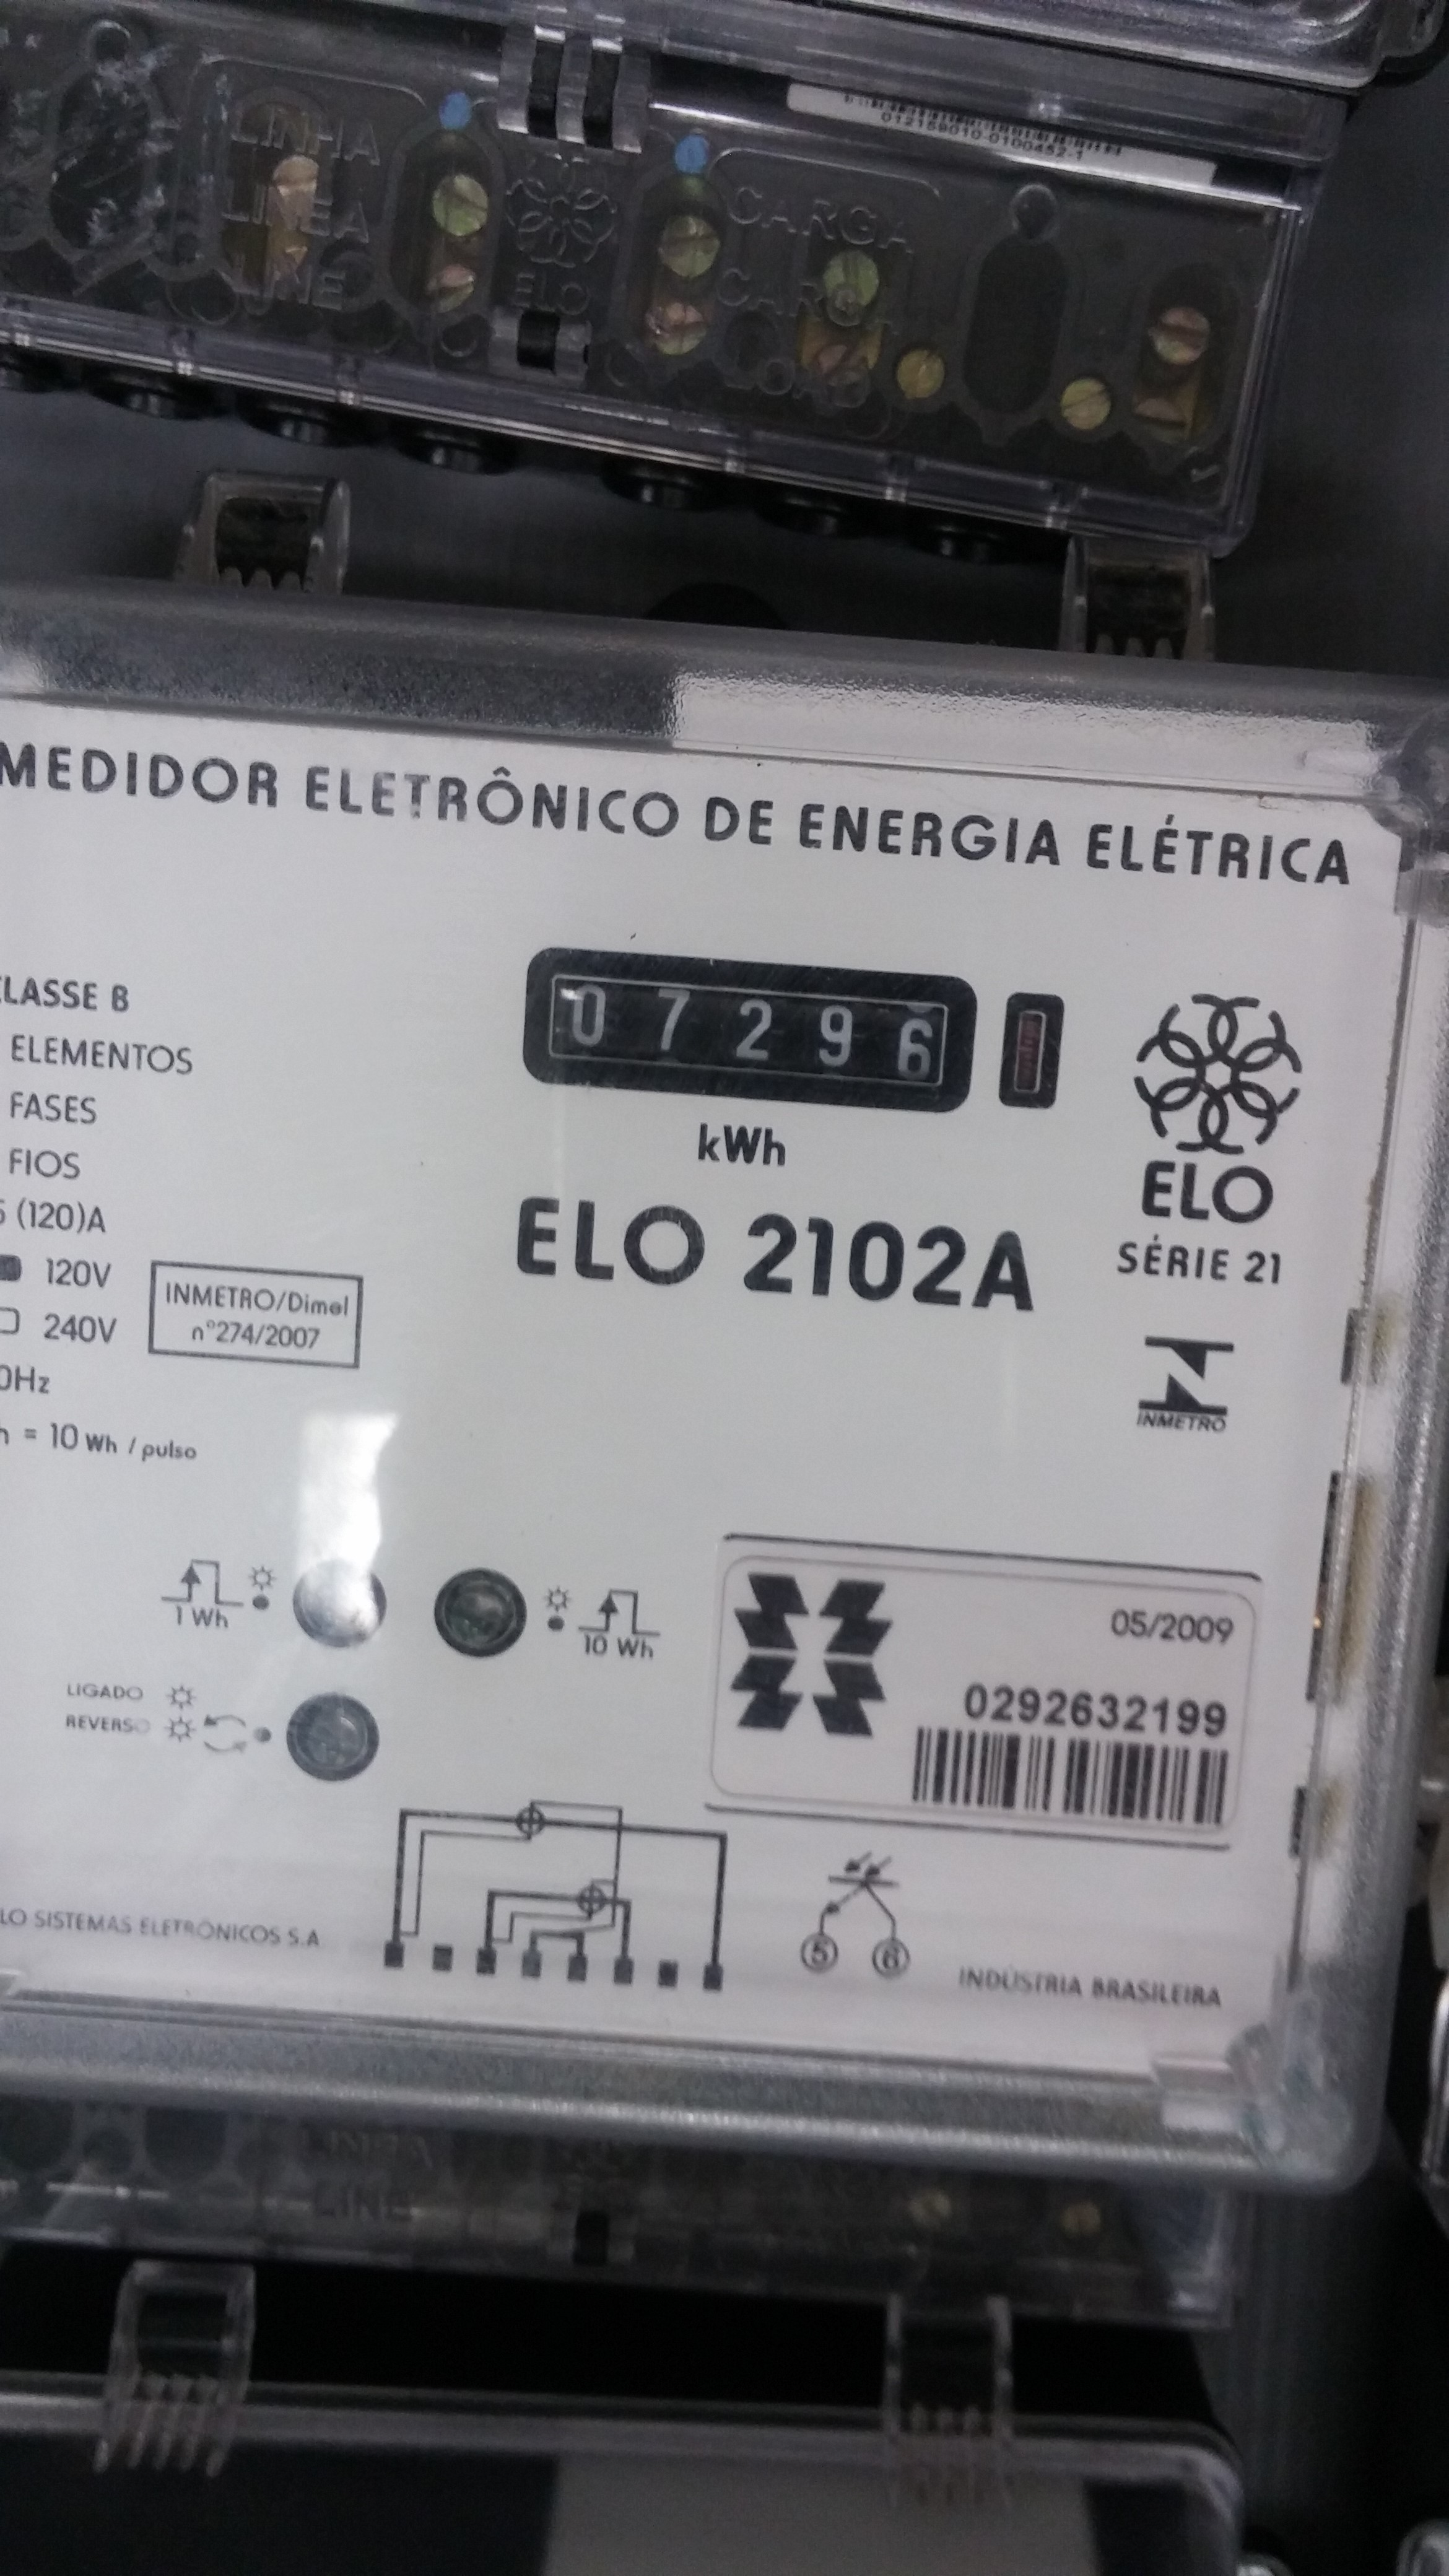counter2: (518, 934, 984, 1118)
